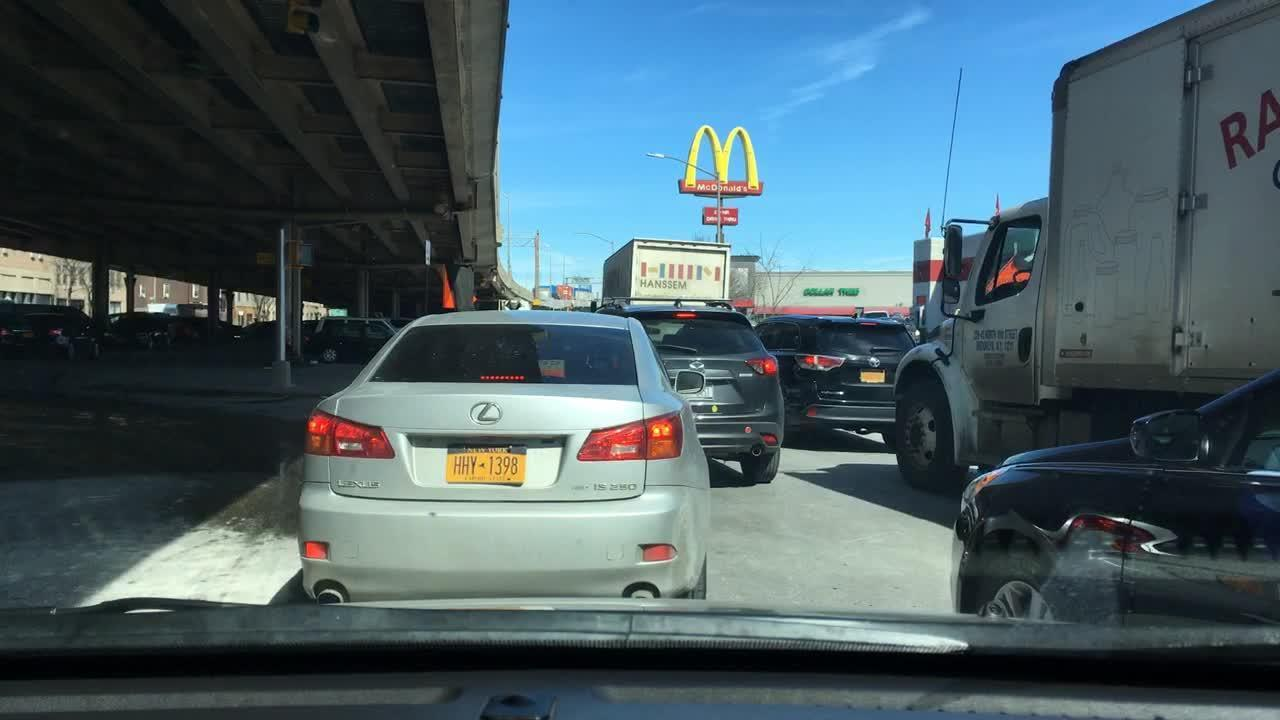lexus: (459, 389, 512, 437)
